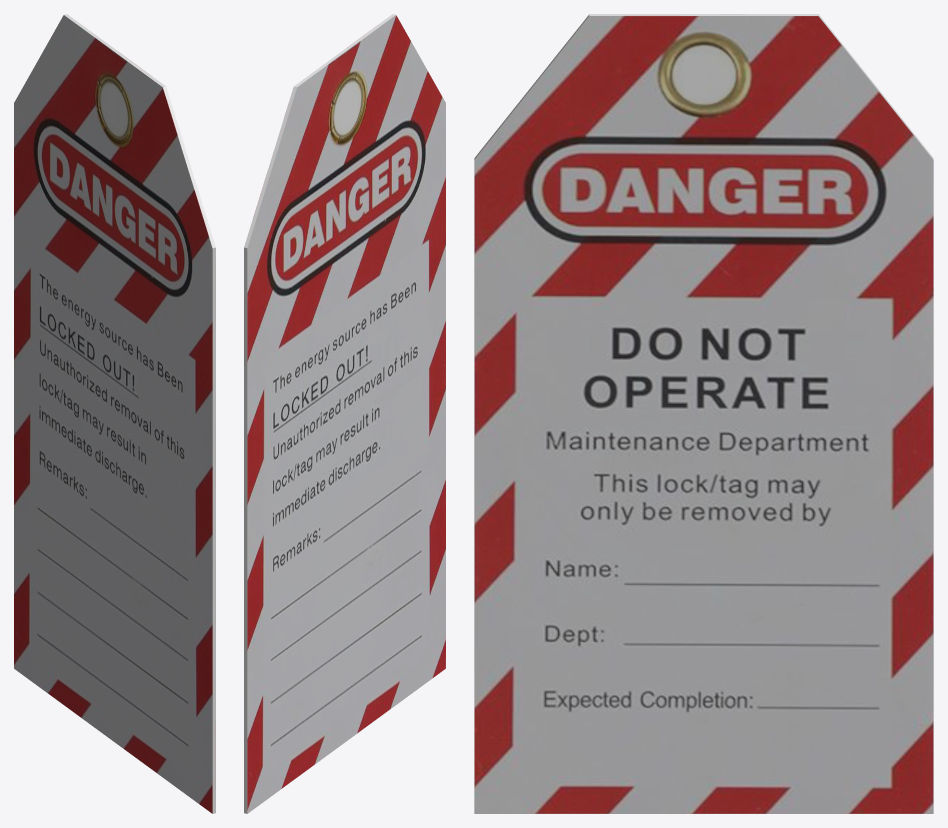
The model's file is Tag.fbx.
3 renders of one model, left to right at view 1: azimuth 30°, elevation 25°; view 2: azimuth 150°, elevation 25°; view 3: azimuth 270°, elevation 25°, orthographic. The views are drawn at different scales.
Parts seen in each view (by area): view 1: Tag; view 2: Tag; view 3: Tag.
Part boxes in pixels (x1,y1,x2,y2): Tag: (14,14,215,813); Tag: (244,14,445,813); Tag: (474,14,933,813).
Size of the model in its own units: 0.0011 by 0.2118 by 0.1104.
